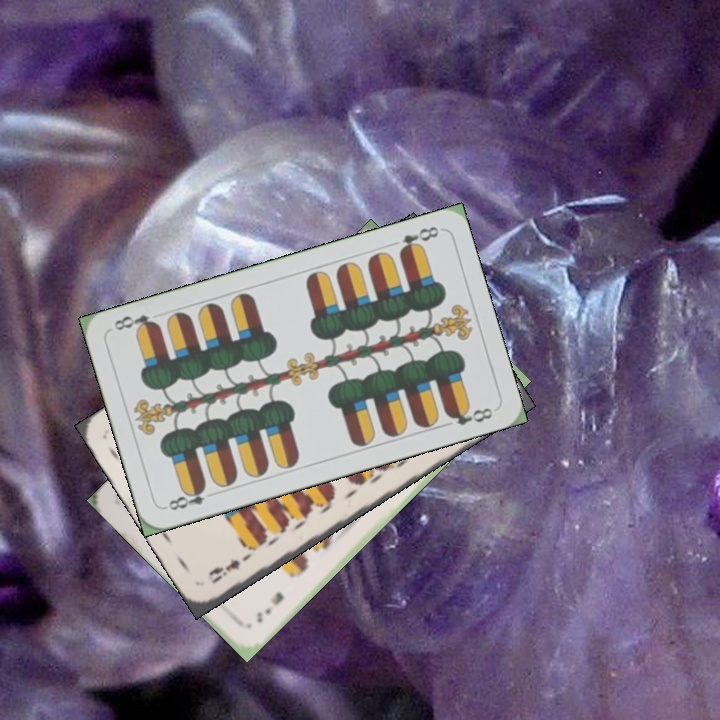E7: (252, 587, 287, 626)
E8: (161, 481, 219, 513), (395, 222, 442, 257)
E9: (205, 545, 255, 587)
